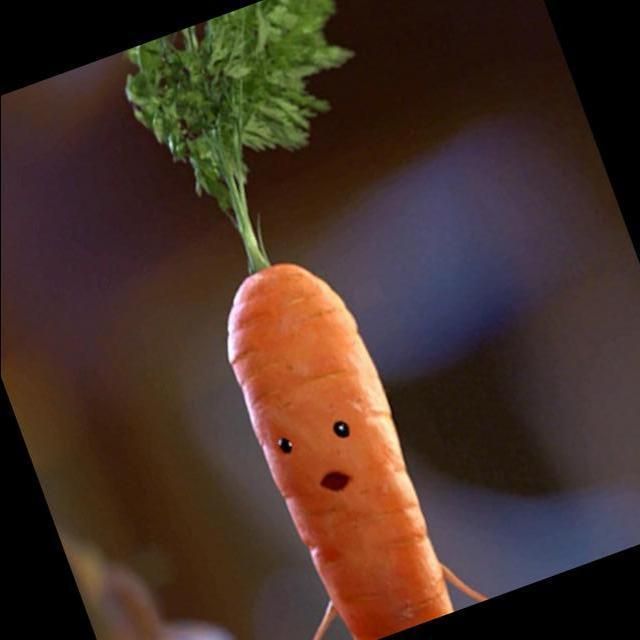Carrot: (126, 0, 465, 640)
